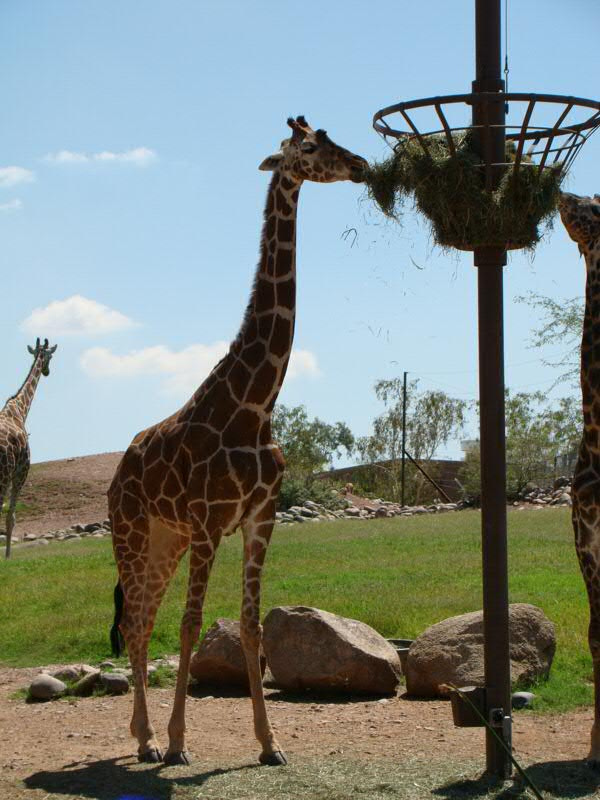giraffe: (113, 99, 388, 757)
